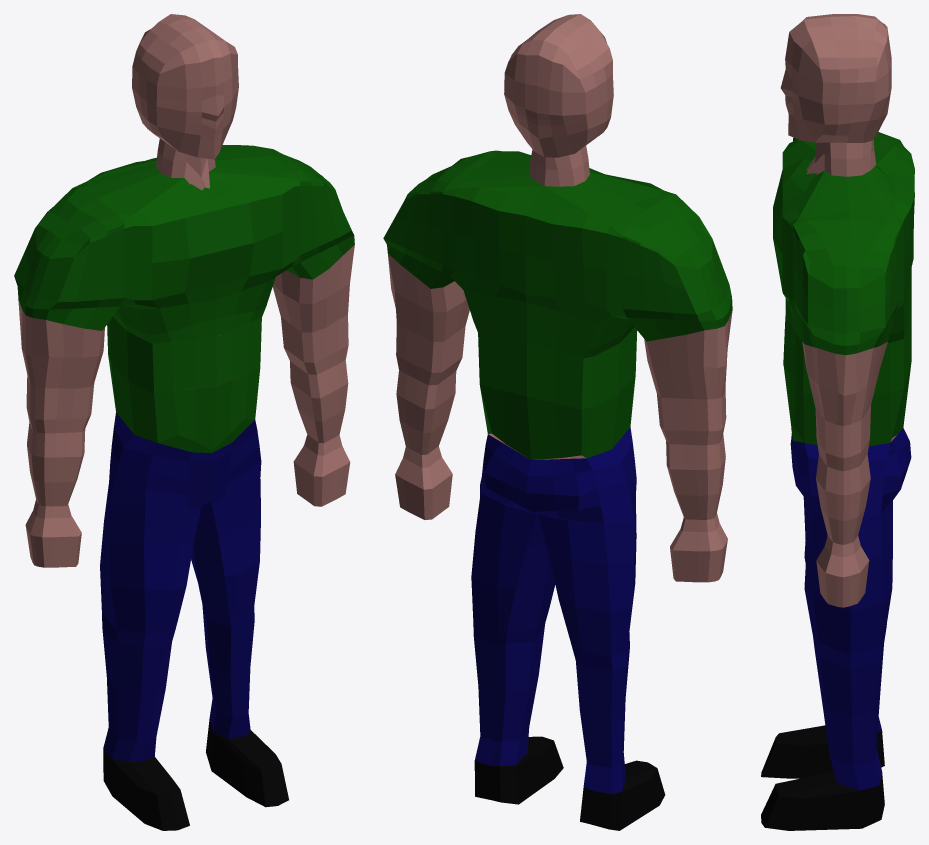
File: PlayerCharacter.fbx
3 views of the same model, side by side, from view 1: azimuth 30°, elevation 25°; view 2: azimuth 150°, elevation 25°; view 3: azimuth 270°, elevation 25° (orthographic). The views are drawn at different scales.
Visible parts, largest first — view 1: Cube.001; view 2: Cube.001; view 3: Cube.001.
Part boxes in pixels (<box>): Cube.001: <box>14,14,354,830</box>; Cube.001: <box>383,14,732,830</box>; Cube.001: <box>761,14,914,830</box>.
Size of the model in its own units: 494 by 1117 by 199.
